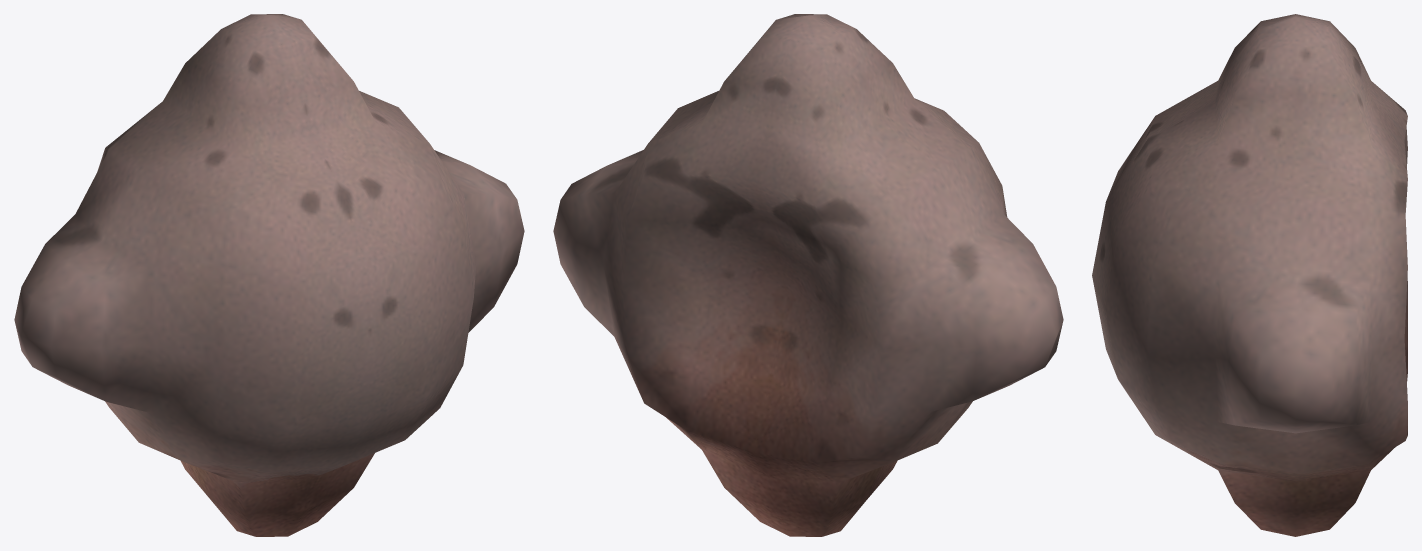
Rendered from FishBodysegment4.fbx.
3 views of the same model, side by side, from view 1: azimuth 30°, elevation 25°; view 2: azimuth 150°, elevation 25°; view 3: azimuth 270°, elevation 25° (orthographic).
Visible parts, largest first — view 1: Cube.011; view 2: Cube.011; view 3: Cube.011.
Boxes of the visible parts, x1,y1,x2,y2 form: Cube.011: (14,14,524,536); Cube.011: (553,14,1063,536); Cube.011: (1092,14,1407,536).
Size of the model in its own units: 220 by 220 by 122.
1 material, 1 textured.
